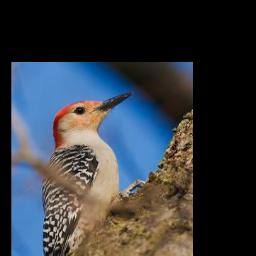Woodpecker: (42, 90, 133, 256)
